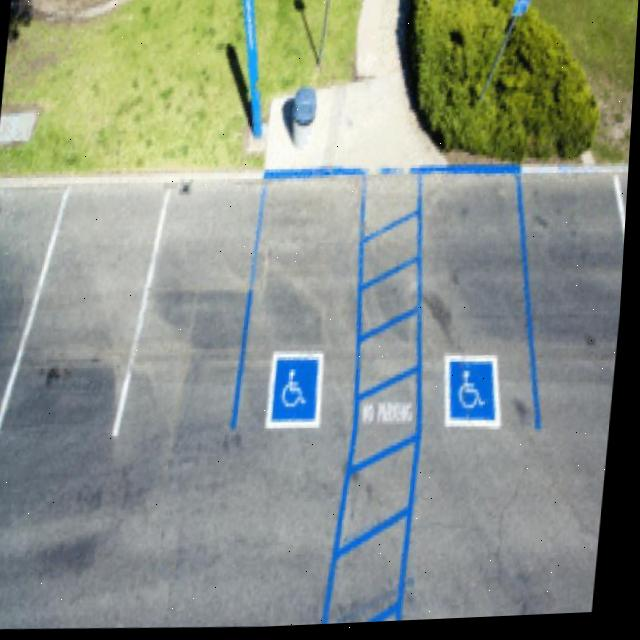symbol_of_access: (449, 361, 510, 433), (273, 355, 328, 430), (517, 0, 536, 5)
